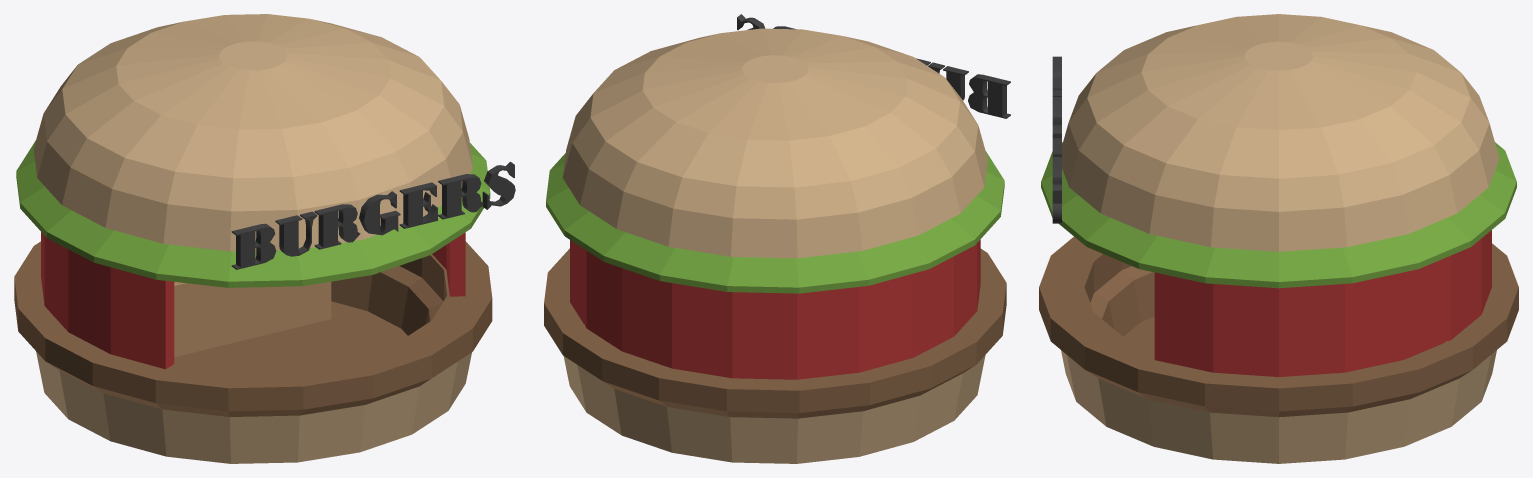
Rendered from SM_shop_burgers.fbx.
3 views of the same model, side by side, from view 1: azimuth 30°, elevation 25°; view 2: azimuth 150°, elevation 25°; view 3: azimuth 270°, elevation 25° (orthographic). The views are drawn at different scales.
Visible parts, largest first — view 1: Cylinder020; view 2: Cylinder020; view 3: Cylinder020.
Boxes of the visible parts, bbox=[...] form: Cylinder020: bbox=[14, 14, 515, 463]; Cylinder020: bbox=[544, 14, 1010, 463]; Cylinder020: bbox=[1039, 14, 1518, 463].
Size of the model in its own units: 455 by 336 by 455.
